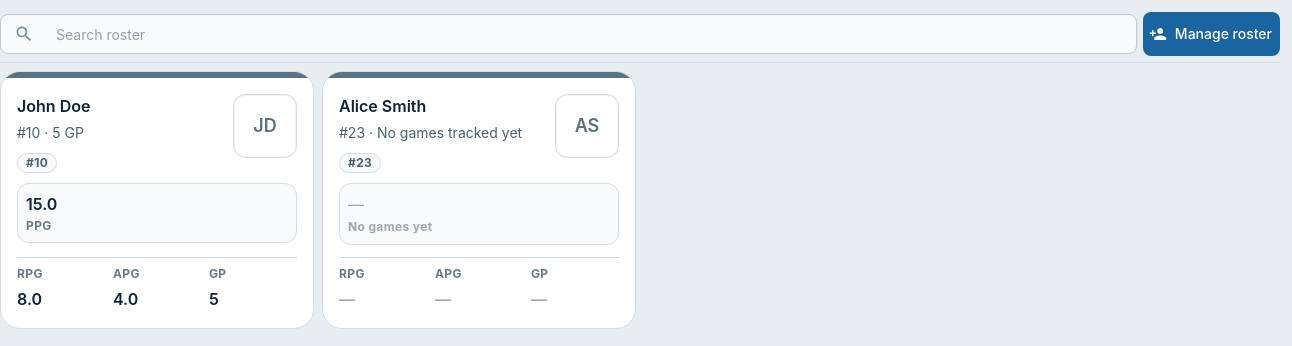
Test: RosterTab › filters roster by player name or jersey number
The width and height of the screenshot is (1292, 346).
# Search by name
Step 1. Type "John" into the field with placeholder "Search roster" → [589, 34], box [42,14,1137,54]
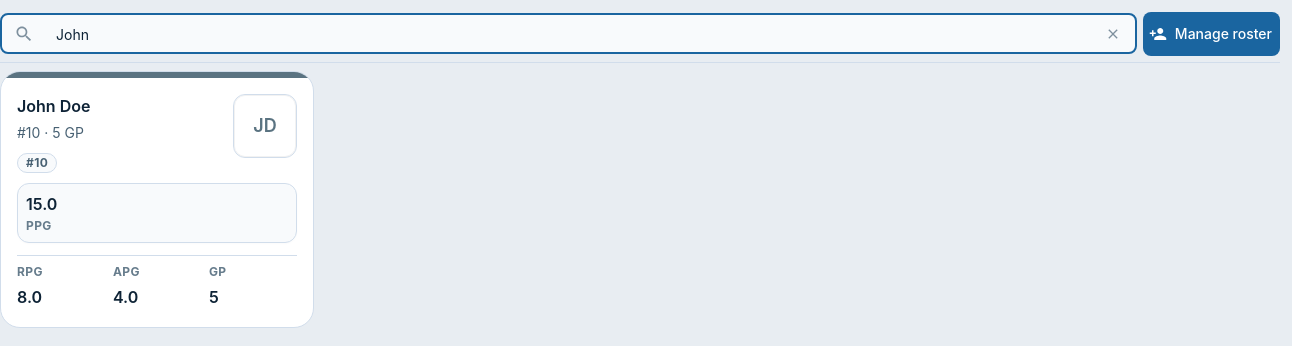
Expected: the heading "John Doe" is shown, [17,94,90,118]
Expected: the button "Alice Smith" is gone
# Clear search
Step 2. Clear the field named "Search roster" → [568, 34], box [42,14,1095,54]
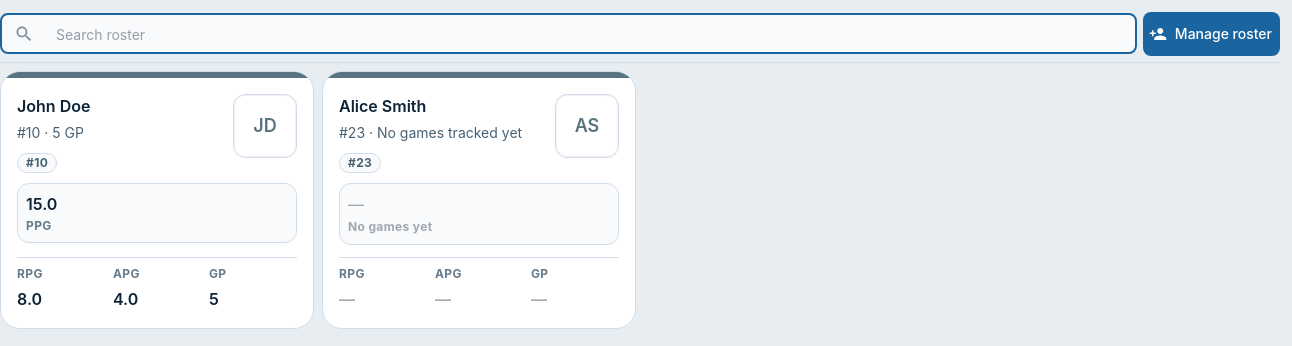
# Search by jersey number
Step 3. Type "23" into the field with placeholder "Search roster" → [589, 34], box [42,14,1137,54]
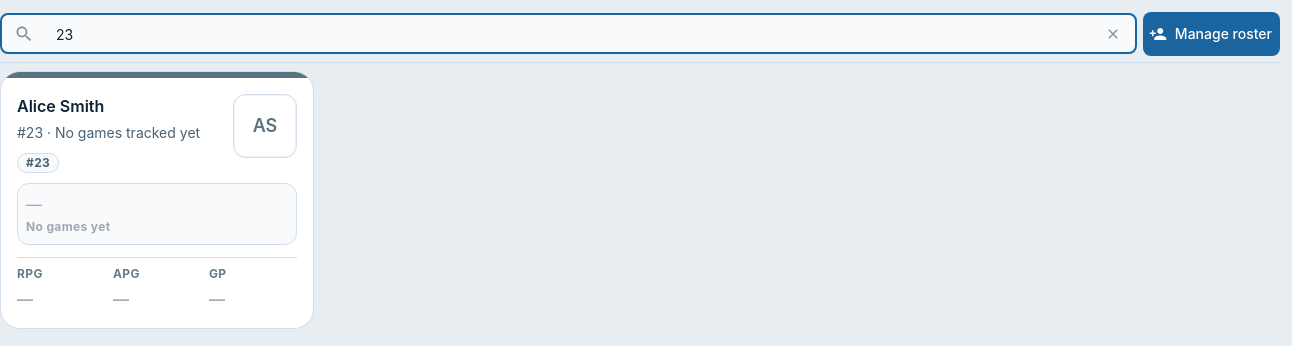
Expected: the heading "Alice Smith" is shown, [17,94,104,118]
Expected: the button "John Doe" is gone
